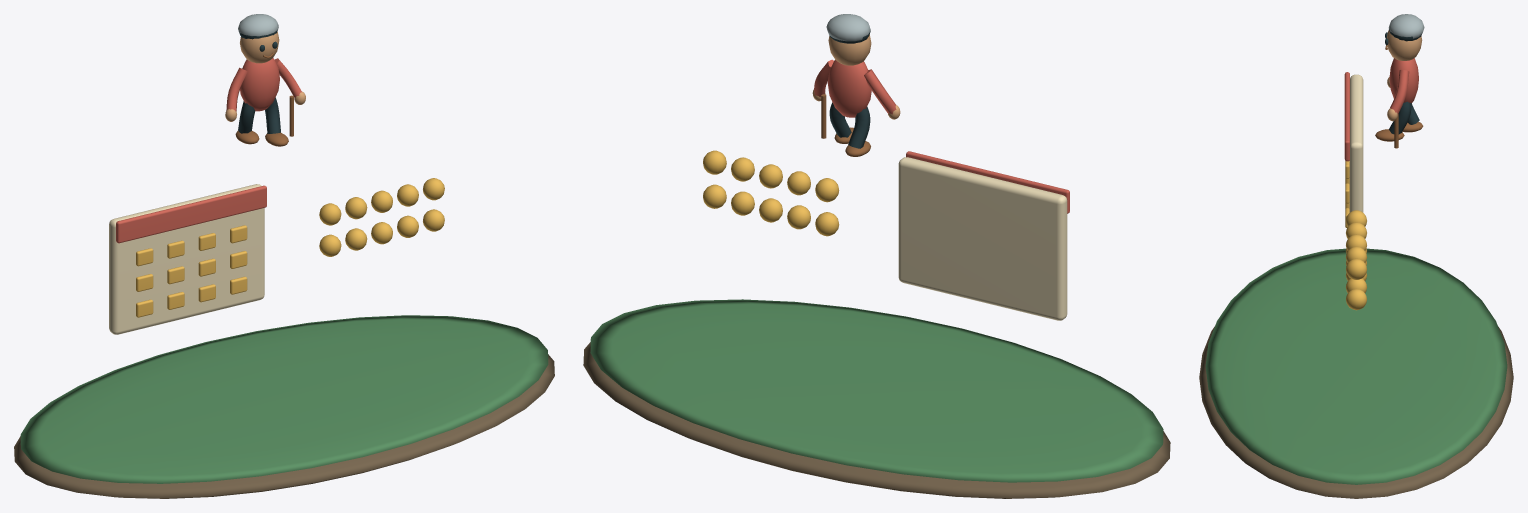
The model's file is complete-third-year-age-count.glb.
The picture shows the model from 3 angles, left to right: view 1: azimuth 30°, elevation 25°; view 2: azimuth 150°, elevation 25°; view 3: azimuth 270°, elevation 25°; orthographic projection. The views are drawn at different scales.
Parts seen in each view (by area): view 1: complete-third-year-age-count_surface_01, complete-third-year-age-count_surface_02, complete-third-year-age-count_surface_00, complete-third-year-age-count_surface_04, complete-third-year-age-count_surface_03, complete-third-year-age-count_surface_05, complete-third-year-age-count_surface_06, complete-third-year-age-count_surface_07, complete-third-year-age-count_surface_08; view 2: complete-third-year-age-count_surface_01, complete-third-year-age-count_surface_02, complete-third-year-age-count_surface_00, complete-third-year-age-count_surface_04, complete-third-year-age-count_surface_03, complete-third-year-age-count_surface_06, complete-third-year-age-count_surface_05, complete-third-year-age-count_surface_08, complete-third-year-age-count_surface_07; view 3: complete-third-year-age-count_surface_01, complete-third-year-age-count_surface_00, complete-third-year-age-count_surface_04, complete-third-year-age-count_surface_02, complete-third-year-age-count_surface_03, complete-third-year-age-count_surface_05, complete-third-year-age-count_surface_08, complete-third-year-age-count_surface_06, complete-third-year-age-count_surface_07.
Boxes of the visible parts, x1,y1,x2,y2 form: complete-third-year-age-count_surface_01: [20, 315, 548, 483]; complete-third-year-age-count_surface_02: [109, 184, 264, 334]; complete-third-year-age-count_surface_00: [14, 354, 554, 498]; complete-third-year-age-count_surface_04: [136, 178, 444, 317]; complete-third-year-age-count_surface_03: [116, 58, 301, 243]; complete-third-year-age-count_surface_05: [225, 32, 305, 121]; complete-third-year-age-count_surface_06: [238, 27, 280, 133]; complete-third-year-age-count_surface_07: [235, 53, 293, 146]; complete-third-year-age-count_surface_08: [238, 14, 278, 36]; complete-third-year-age-count_surface_01: [590, 299, 1163, 482]; complete-third-year-age-count_surface_02: [898, 157, 1067, 320]; complete-third-year-age-count_surface_00: [583, 342, 1170, 498]; complete-third-year-age-count_surface_04: [703, 150, 839, 236]; complete-third-year-age-count_surface_03: [814, 59, 1069, 213]; complete-third-year-age-count_surface_06: [829, 31, 870, 148]; complete-third-year-age-count_surface_05: [812, 34, 900, 119]; complete-third-year-age-count_surface_08: [826, 14, 870, 41]; complete-third-year-age-count_surface_07: [821, 94, 870, 156]; complete-third-year-age-count_surface_01: [1205, 248, 1507, 484]; complete-third-year-age-count_surface_00: [1199, 326, 1513, 498]; complete-third-year-age-count_surface_04: [1345, 161, 1367, 310]; complete-third-year-age-count_surface_02: [1349, 74, 1363, 212]; complete-third-year-age-count_surface_03: [1344, 58, 1418, 161]; complete-third-year-age-count_surface_05: [1387, 30, 1422, 121]; complete-third-year-age-count_surface_08: [1388, 14, 1424, 38]; complete-third-year-age-count_surface_06: [1385, 29, 1421, 134]; complete-third-year-age-count_surface_07: [1375, 45, 1423, 148].
Size of the model in its own units: 4.56 by 3.29 by 2.5.
